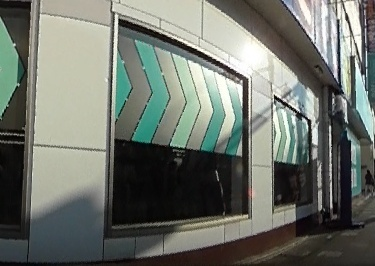person: (364, 167, 374, 193)
